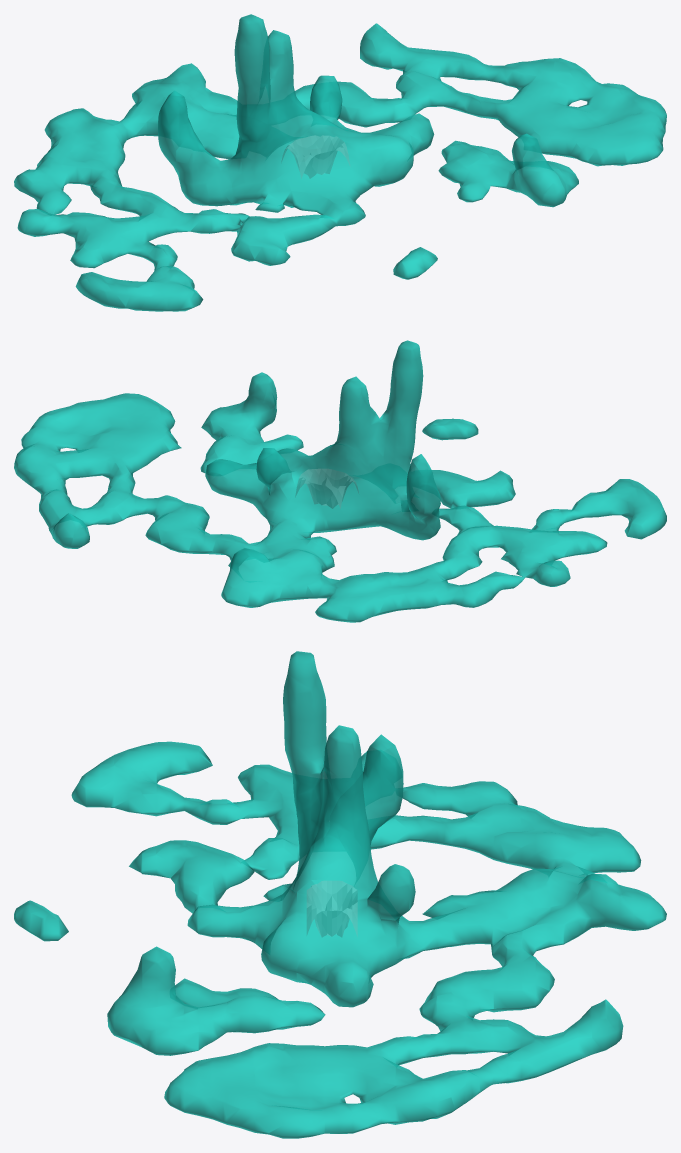
The picture shows the model from 3 angles, top to bottom: view 1: azimuth 30°, elevation 25°; view 2: azimuth 150°, elevation 25°; view 3: azimuth 270°, elevation 25°; orthographic projection. The views are drawn at different scales.
Visible parts, largest first — view 1: Liquid_Domain, グリッド; view 2: Liquid_Domain, グリッド; view 3: Liquid_Domain, グリッド.
Part boxes in pixels (x1,y1,x2,y2): Liquid_Domain: (14,14,666,311); グリッド: (281,135,349,178); Liquid_Domain: (14,340,666,622); グリッド: (295,469,358,508); Liquid_Domain: (14,651,666,1138); グリッド: (307,881,357,936).
Bounding box in the file's own units: 5.32 × 1.6 × 3.84.
